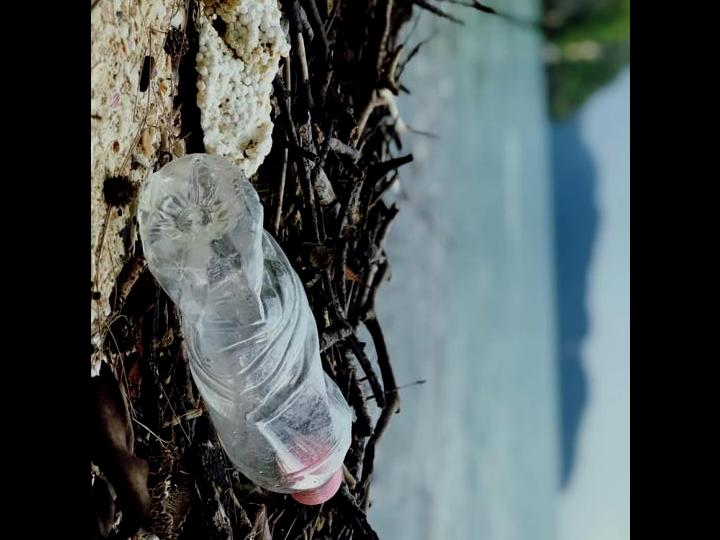bottle: (137, 144, 356, 514)
